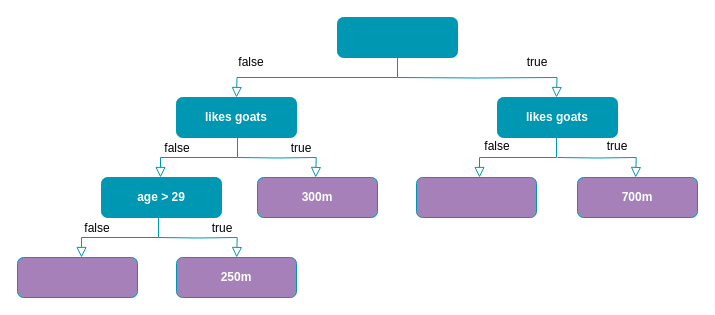
The diagram is 715 pixels wide and 315 high, and some of its shapes have lost their labels. The shapes that lost their labels are listed below. From the top down, each one's box as (x1, y1, x2, y2) in pixels, then its label:
(336, 16, 458, 58): likes height
(416, 176, 536, 218): 600m
(16, 256, 138, 298): 200m
